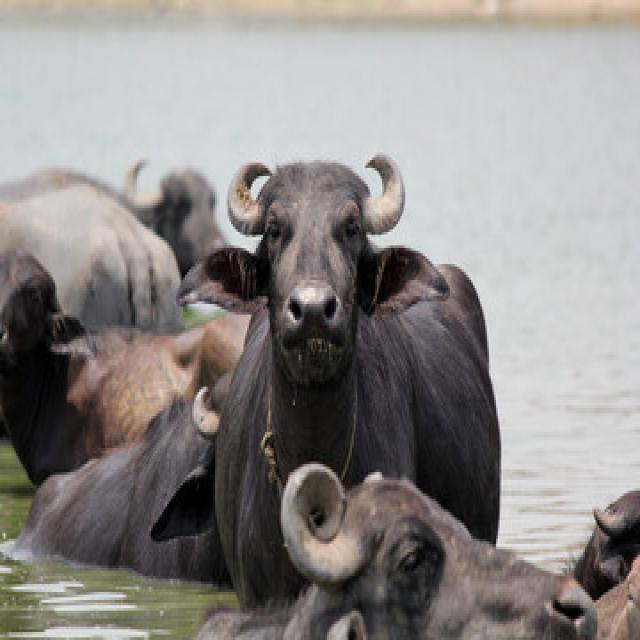Buffalo: (176, 139, 499, 450), (196, 459, 594, 640)
